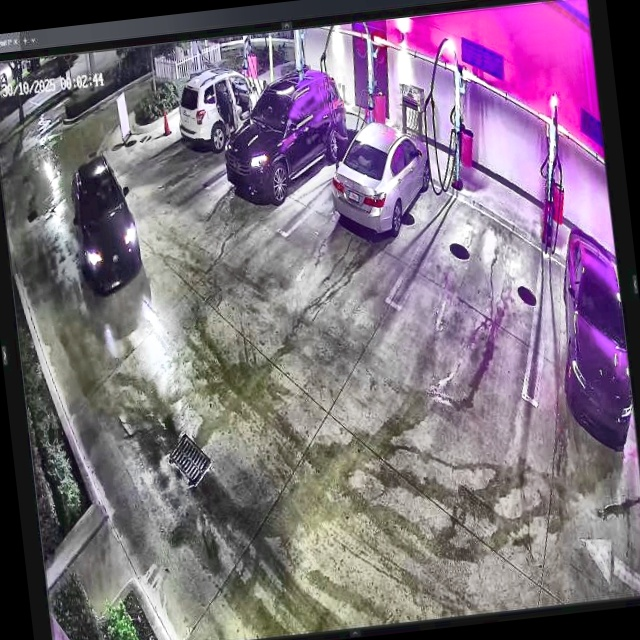Car: (215, 66, 352, 207), (326, 116, 436, 239), (67, 155, 146, 298), (172, 64, 269, 156)
